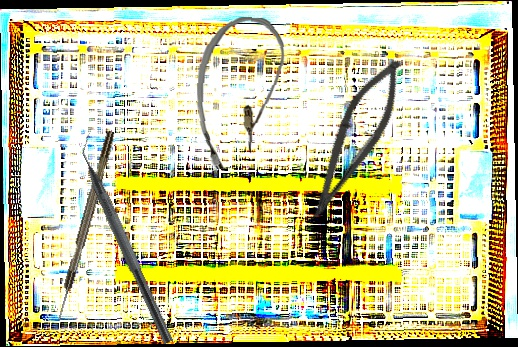Cannula: (193, 14, 287, 173)
Chopper: (69, 131, 188, 345)
Hook Surgical: (53, 130, 117, 322)
Micro Scissor: (300, 50, 414, 231)
